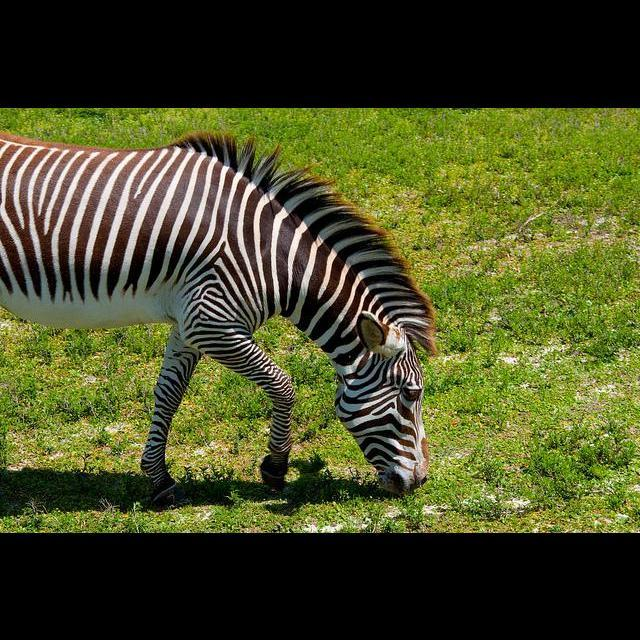zebra: (1, 128, 442, 508)
